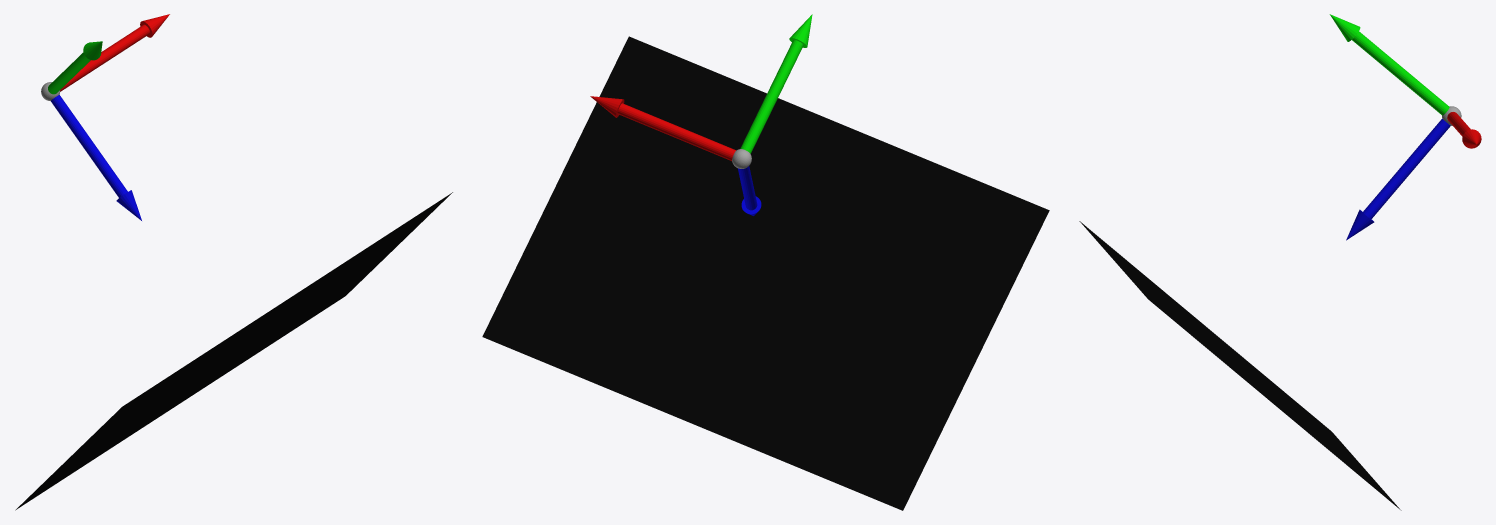
3 renders of one model, left to right at view 1: azimuth 30°, elevation 25°; view 2: azimuth 150°, elevation 25°; view 3: azimuth 270°, elevation 25°, orthographic. The views are drawn at different scales.
Bounding box in the file's own units: 0.3447 × 0.3886 × 0.3079.
